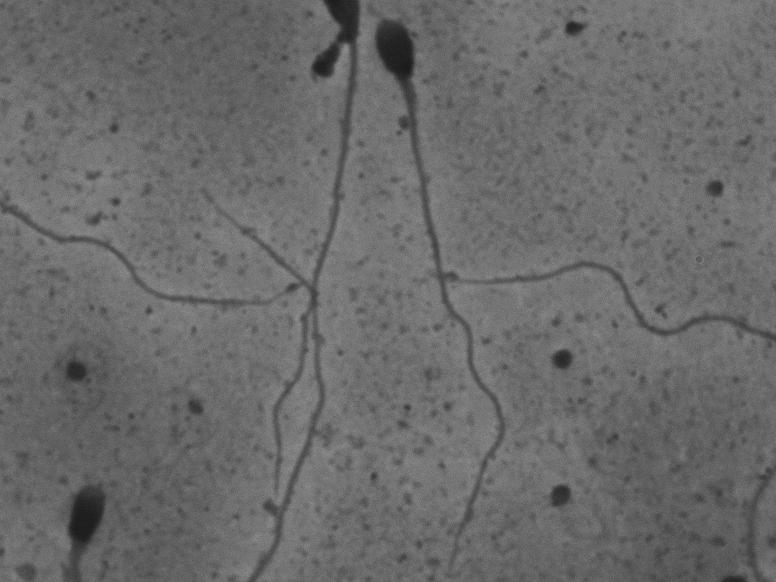Normal: (364, 5, 524, 570)
